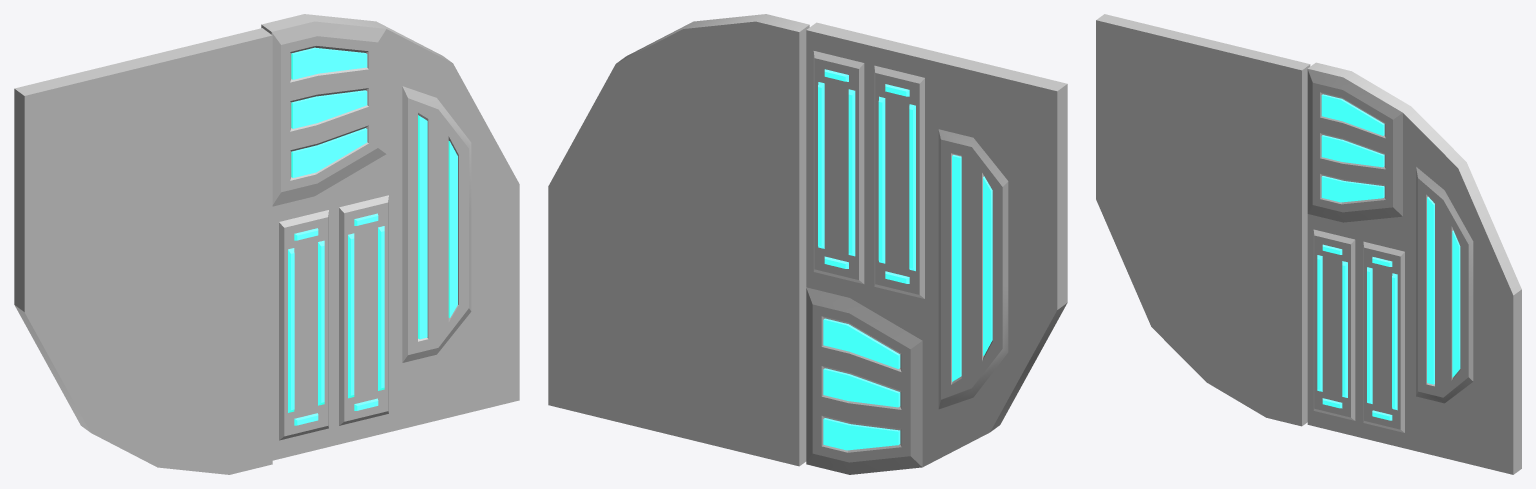
Rendered from vrata.FBX.
3 views of the same model, side by side, from view 1: azimuth 30°, elevation 25°; view 2: azimuth 150°, elevation 25°; view 3: azimuth 330°, elevation 25° (orthographic). The views are drawn at different scales.
Visible parts, largest first — view 1: Box021, Group002, Box020; view 2: Box020, Group003, Box021; view 3: Box021, Group002, Box020.
Part boxes in pixels (left/top/right/bottom): Box021: left=14, top=28, right=272, bottom=474; Group002: left=271, top=21, right=471, bottom=440; Box020: left=261, top=14, right=519, bottom=460; Box020: left=548, top=14, right=809, bottom=466; Group003: left=806, top=51, right=1008, bottom=474; Box021: left=806, top=22, right=1067, bottom=466; Box021: left=1096, top=14, right=1310, bottom=426; Group002: left=1307, top=69, right=1473, bottom=432; Box020: left=1307, top=62, right=1521, bottom=474.
Size of the model in its own units: 318 by 261 by 15.47.
